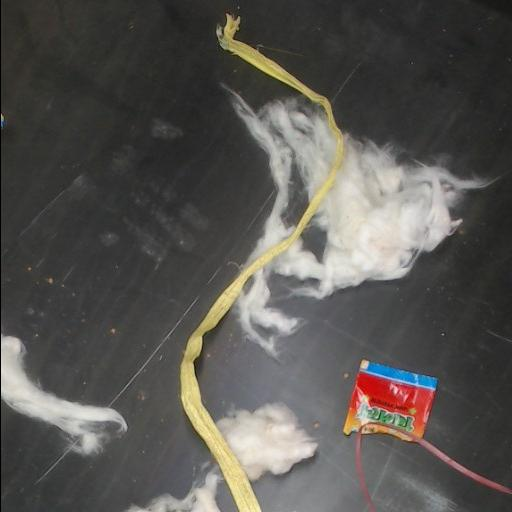conveyor belt: (1, 0, 512, 511), (362, 435, 512, 511), (282, 173, 307, 225), (302, 227, 324, 257)
cotton: (235, 133, 490, 356), (231, 91, 335, 259), (1, 334, 126, 453), (216, 403, 317, 480), (124, 465, 221, 511)
packet: (343, 359, 436, 437)
thread: (180, 14, 343, 511), (355, 423, 512, 511)
